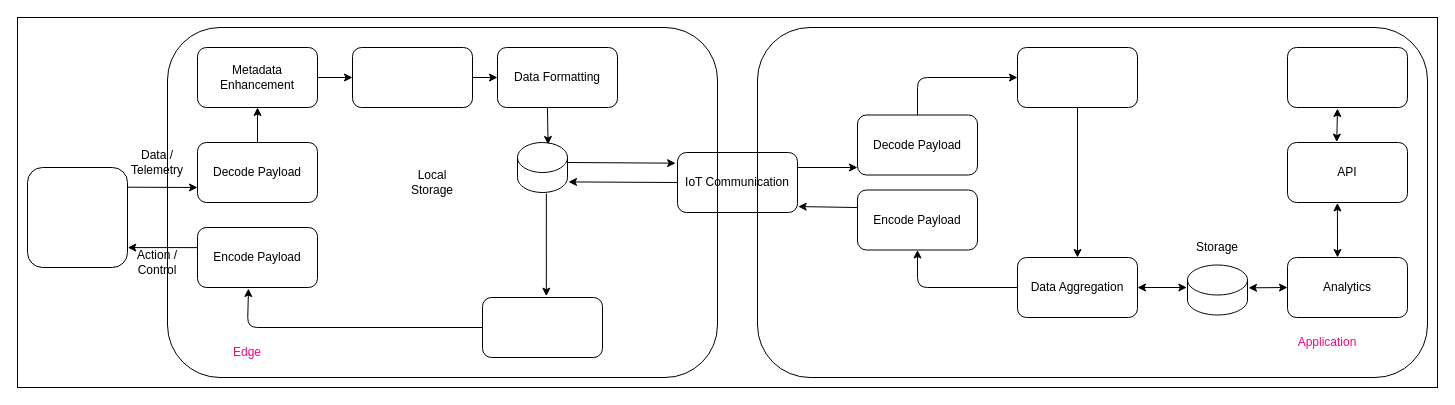
The diagram is 1455 pixels wide and 405 high, and some of its shapes have lost their labels. The centre of each missing label's shape, as x and y in pixels:
Load Control: the point at 542,327
Metatdata Enhancement: the point at 1077,77
Semantic Annotation: the point at 412,77
Sensors: the point at 77,217
System UI: the point at 1347,77
